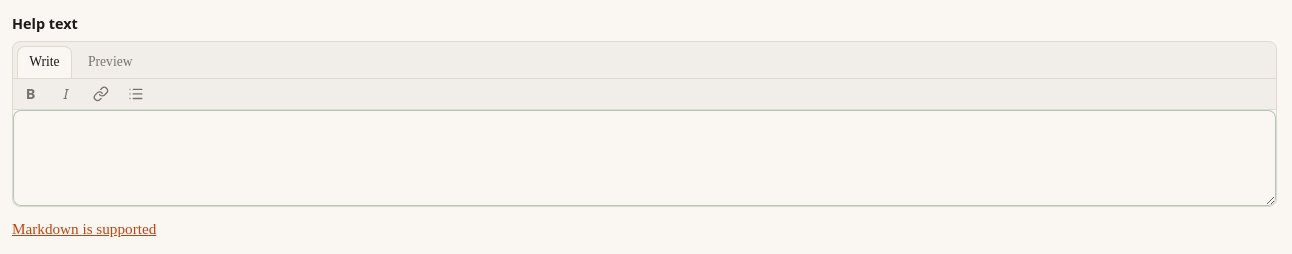
Test case: MarkdownField › says there is nothing to read rather than showing an empty panel
Click the tab "Preview".
click(110, 62)  # box 76,46 -> 145,78
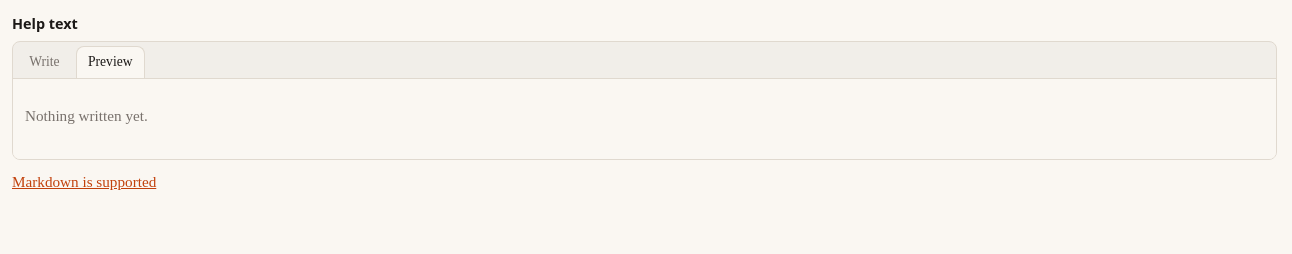
Expected: the text "Nothing written yet." is shown, 25,107 -> 148,124
